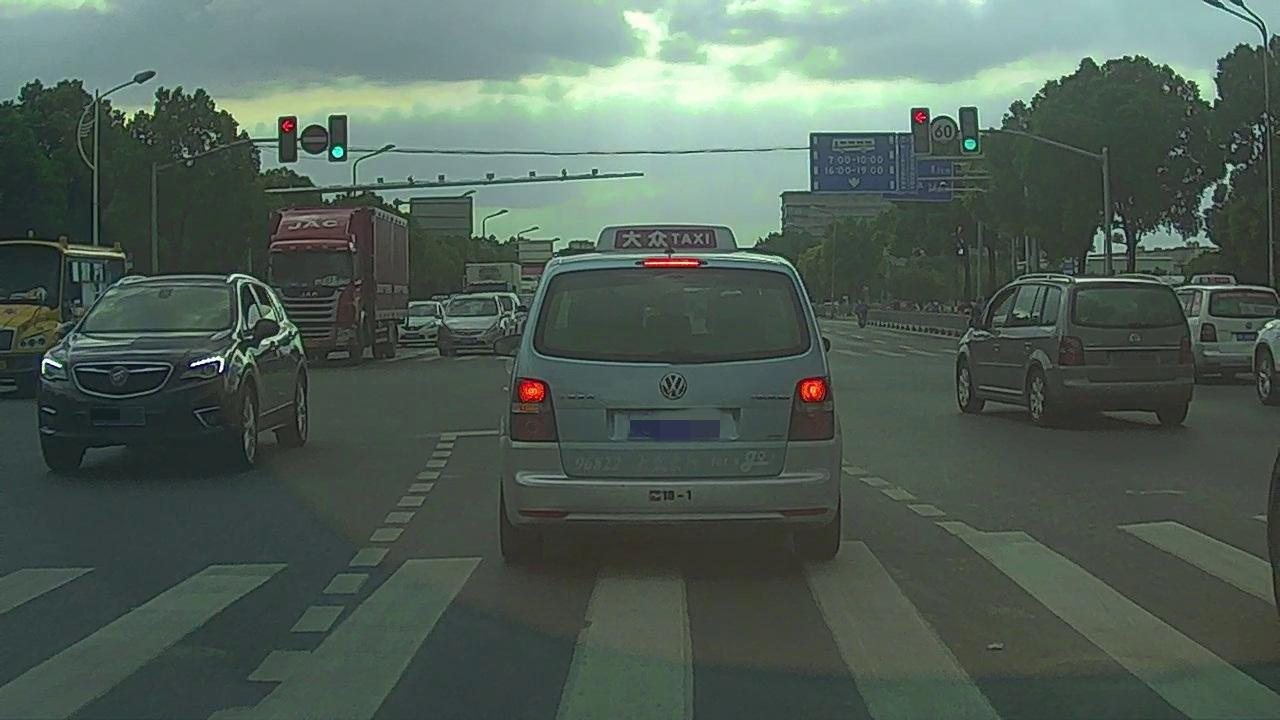traffic_light: (960, 106, 979, 155), (278, 116, 296, 162), (330, 115, 347, 162), (911, 108, 928, 153)
